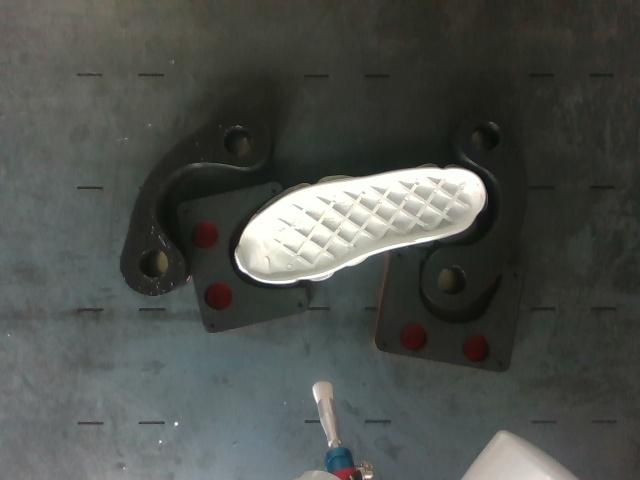shoes: (238, 169, 486, 282)
